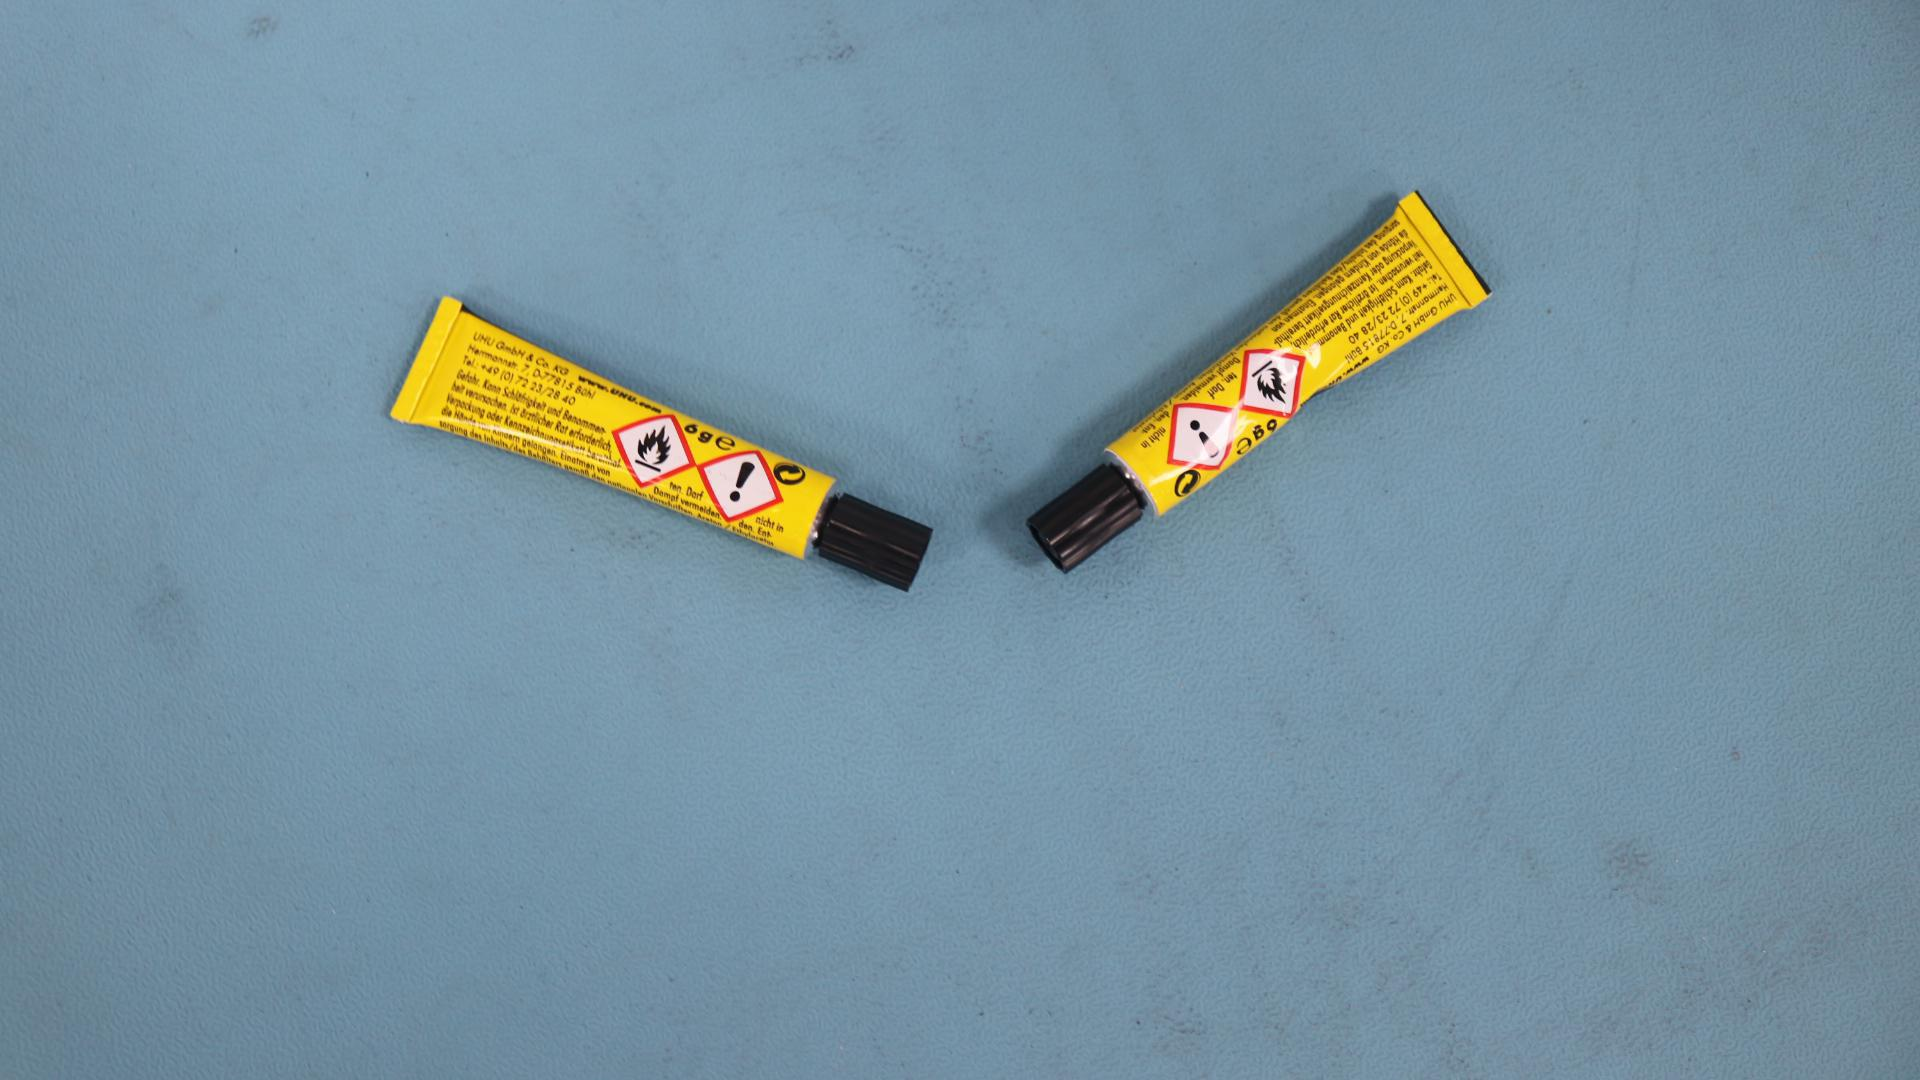Head: (1081, 513, 1092, 523), (867, 535, 878, 545)
Tail: (1441, 244, 1453, 257), (419, 358, 430, 368)
Tube: (1026, 189, 1492, 573), (389, 295, 933, 593)
